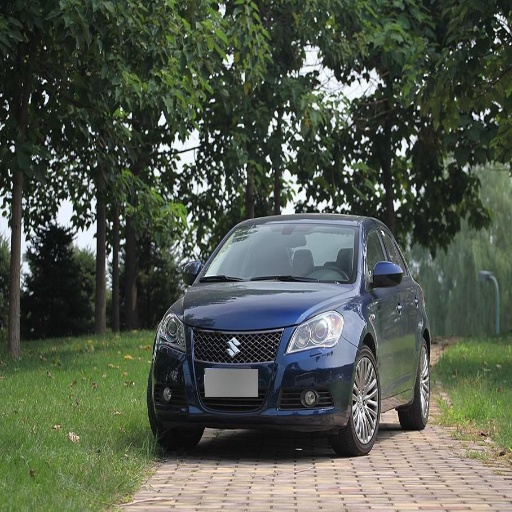front_bumper: (152, 322, 355, 430)
front_glass: (195, 223, 359, 283)
front_left_door: (363, 223, 405, 395)
